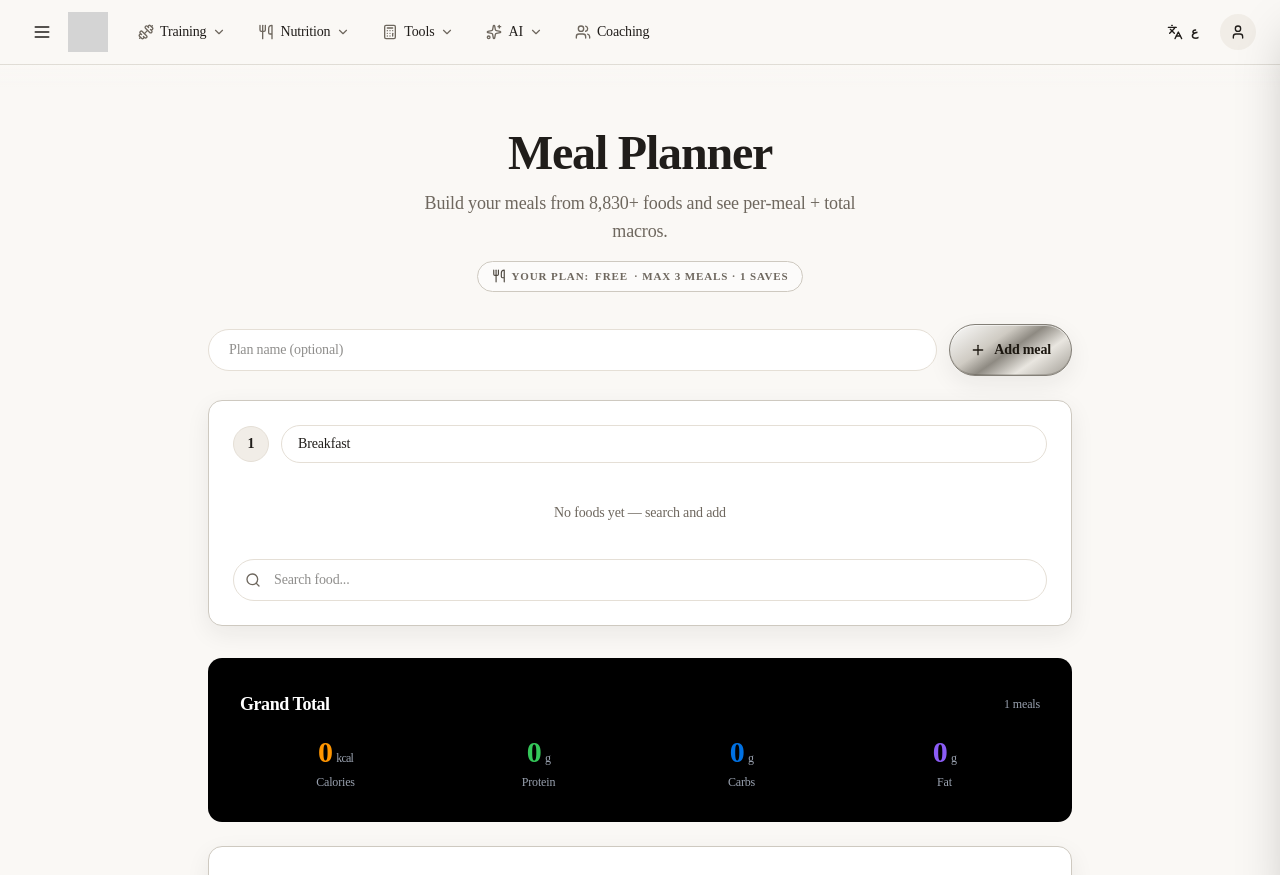
Scenario: W1-4c behavior — the real page through the B-03 race › B-03 core: the stale «chick» response can no longer overwrite «chicken»
Type "chick" into the field with placeholder "بحث عن صنف غذائي...".
click(640, 580); type("chick")  # box [233,558,1047,600]
Wait 300 ms
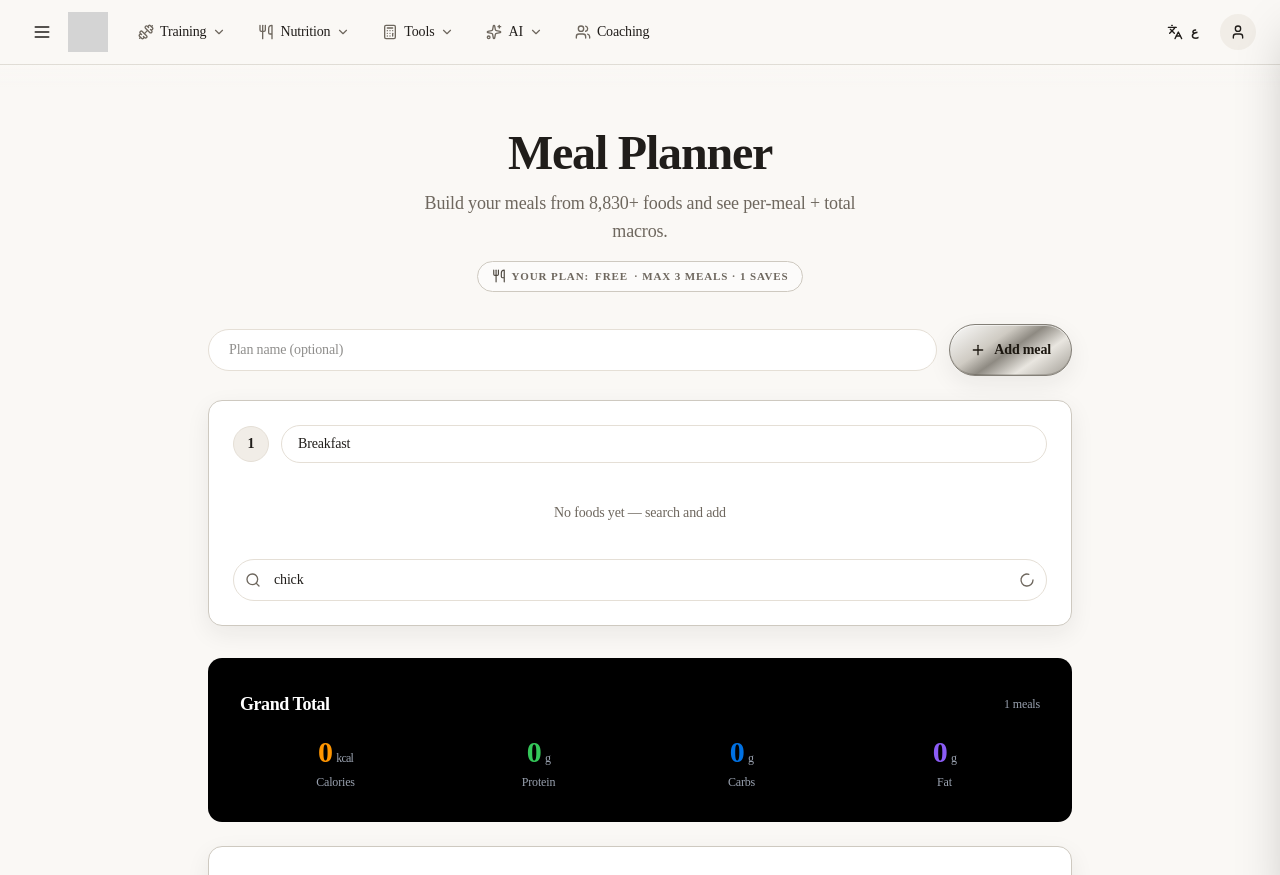
Replace the text in the 2nd field with placeholder "بحث عن صنف غذائي..." with "chicken" at (640, 580), box [233,558,1047,600]
Wait 300 ms
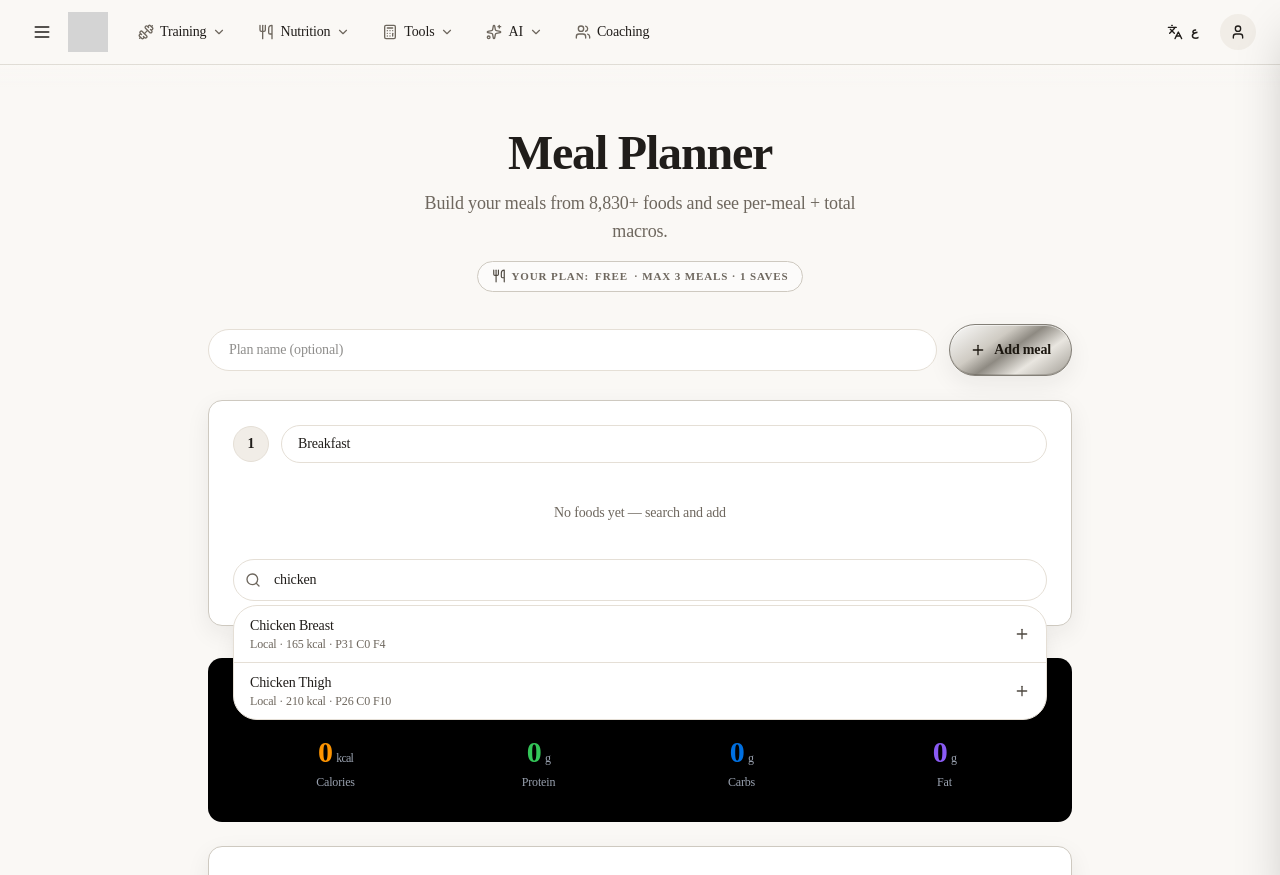
Expected: the element with class "z-20" is shown, [233,604,1047,720]
Expected: the element with class "z-20" shows "Chicken Breast", [234,606,1046,662]
Expected: the element with class "z-20" shows "Chicken Thigh", [234,662,1046,718]
